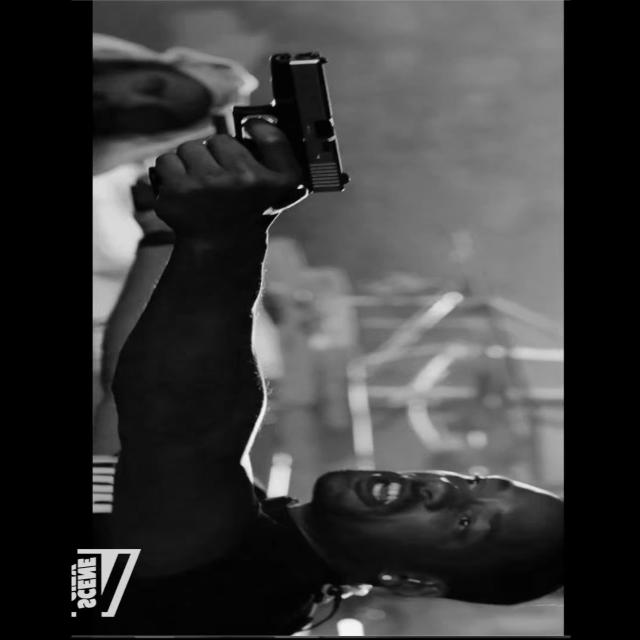weapons: (168, 48, 368, 204)
